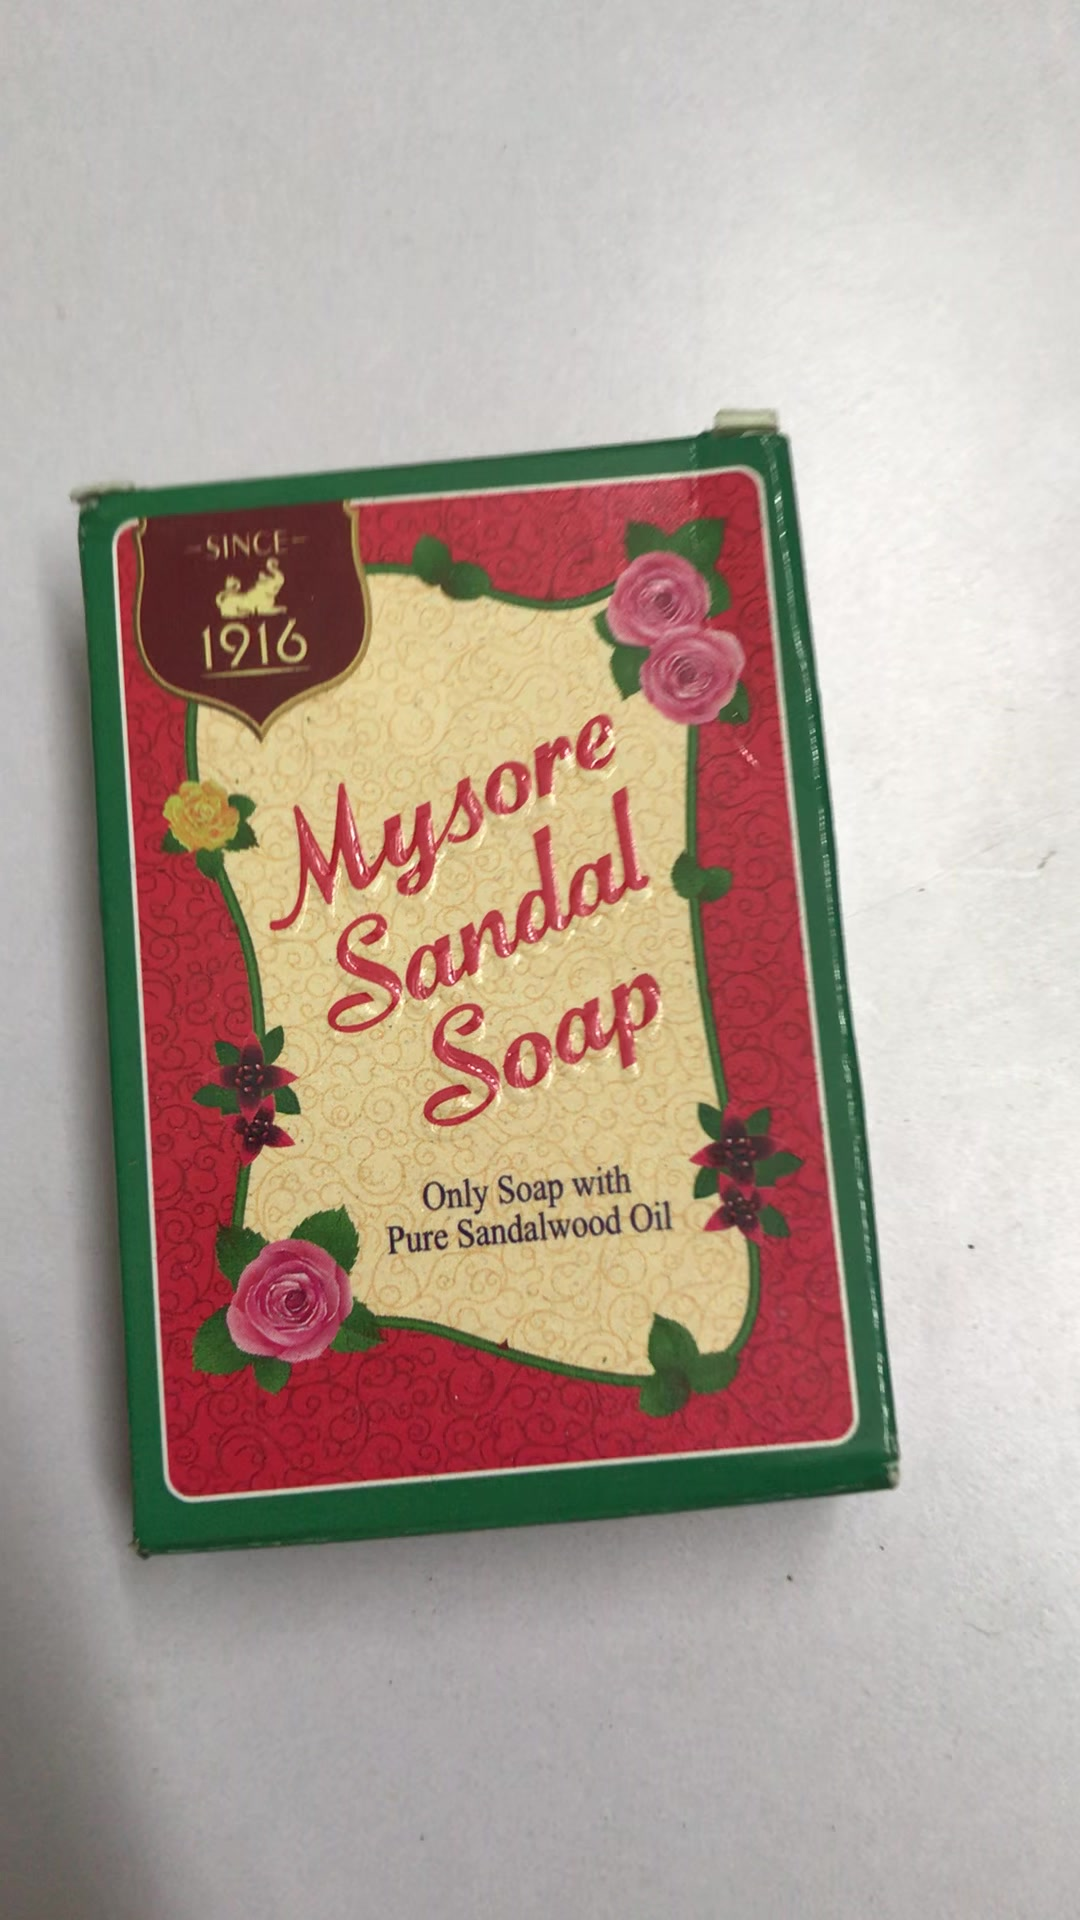mysore sandal soap: (80, 433, 895, 1552)
